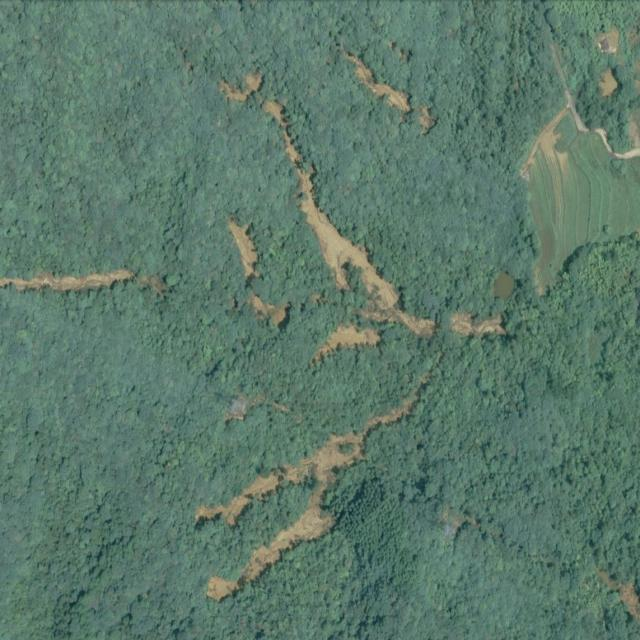landslide: (198, 390, 419, 602), (264, 100, 435, 338), (228, 217, 259, 277)
